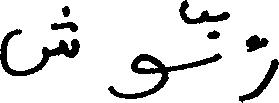X: (0, 1, 78, 80), (113, 49, 166, 102), (241, 30, 278, 102), (211, 10, 219, 67)
